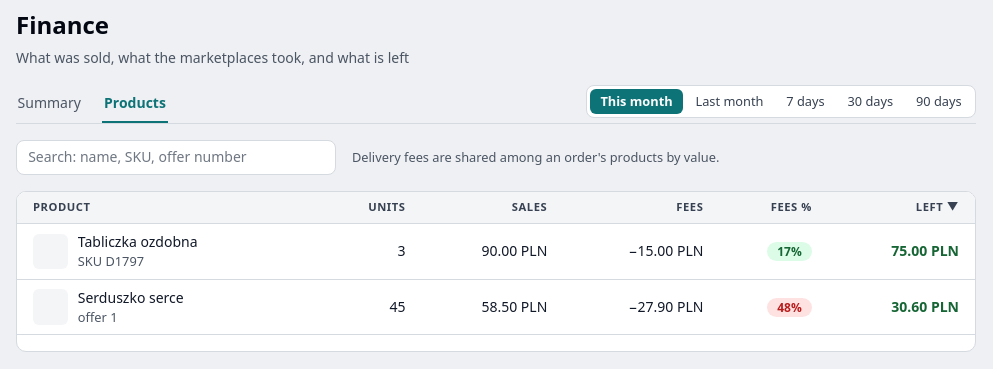
Test: the products › list each product with its fees, most left first, and find one by name or SKU
expect the row that starts with "Tabliczka ozdobna" is shown: met, box [78,232,198,251]
expect the row that starts with "Serduszko serce" shows "48%": met, box [17,279,975,335]
Step 1. Type "d1797" into the search field → (176, 158), box [16,140,336,175]
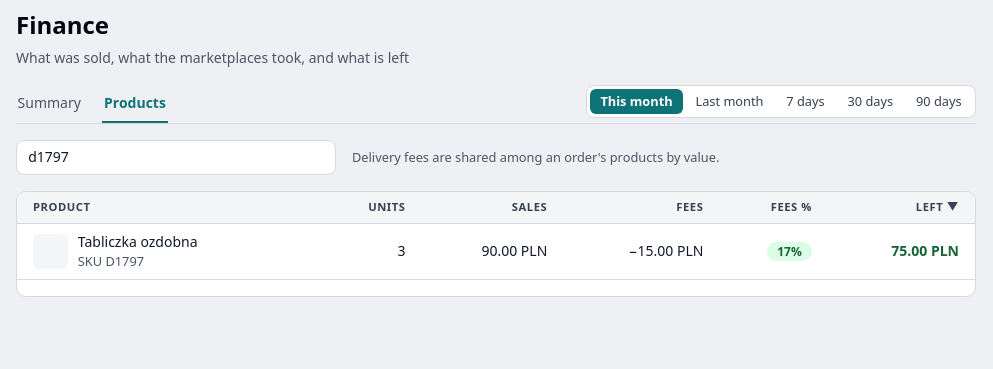
expect the number of rows is 2: met, box [17,192,975,223]; [17,223,975,279]
